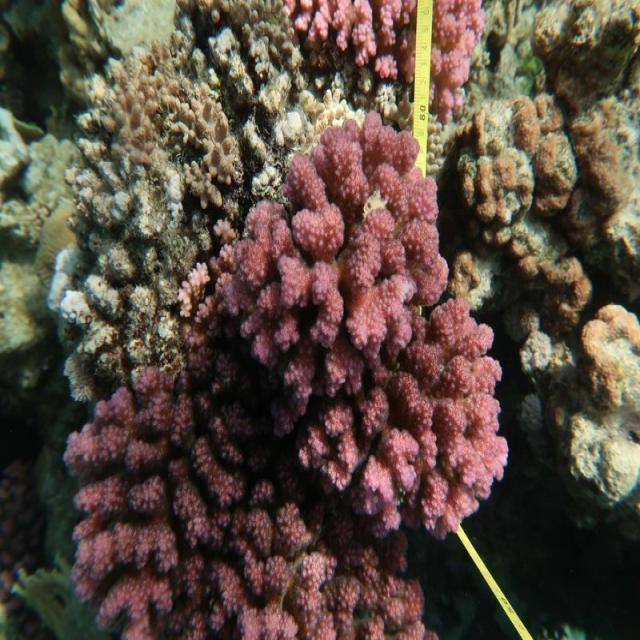Healthy Coral: (58, 122, 512, 639), (285, 1, 475, 111)
